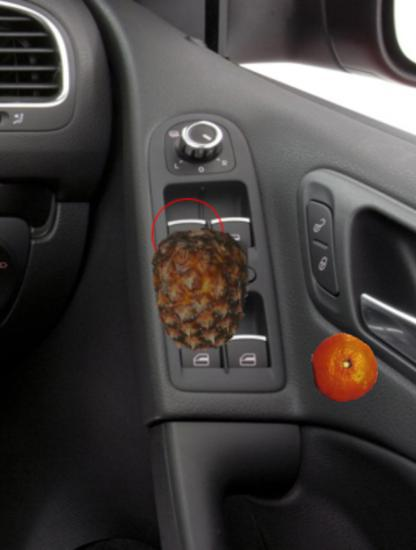Clementine: (307, 332, 379, 404)
Pineapple: (136, 225, 265, 354)
